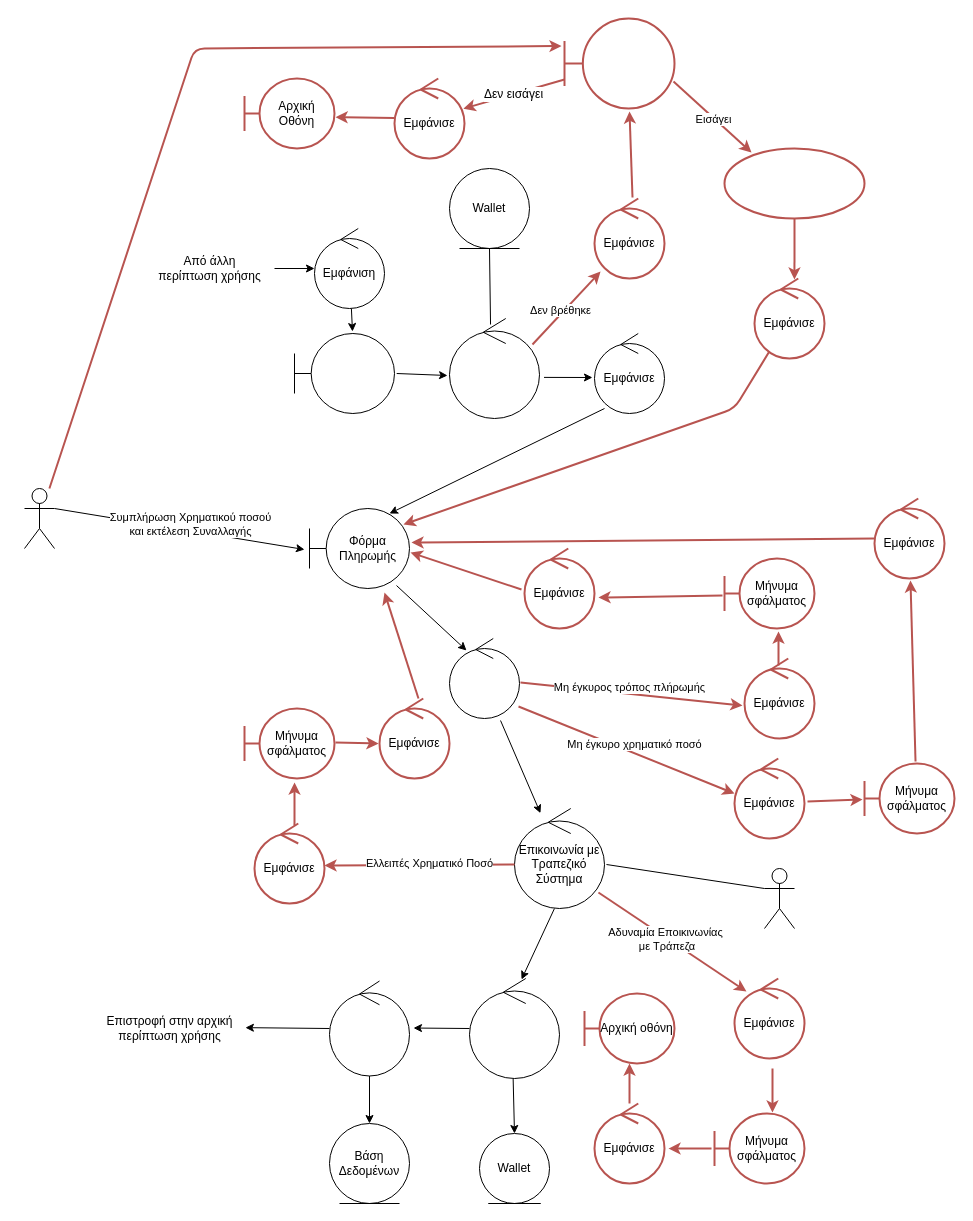
The diagram is 973 pixels wide and 1221 high, and some of its shapes have lost their labels. Each missing label, with the centre of its shape:
Έλεγχος Πεδίων: (484,678)
Έλεγχος Υπάρξης Τρόπου Πληρωμής: (494,368)
Ενημέρωση βάσης δεδομένων: (369,1028)
Επιλογή εισαγωγής μεθόδου πληγρωμής: (619,63)
Οθόνη "Φόρτιση Πορτοφολιού": (344,373)
Πελάτης: (39,518)
Προσθήκη Τρόπου Πληρωμής: (794,183)
Προσθήκη υπολοίπου στο πορτοφόλι: (514,1028)
Τράπεζα: (779,898)
